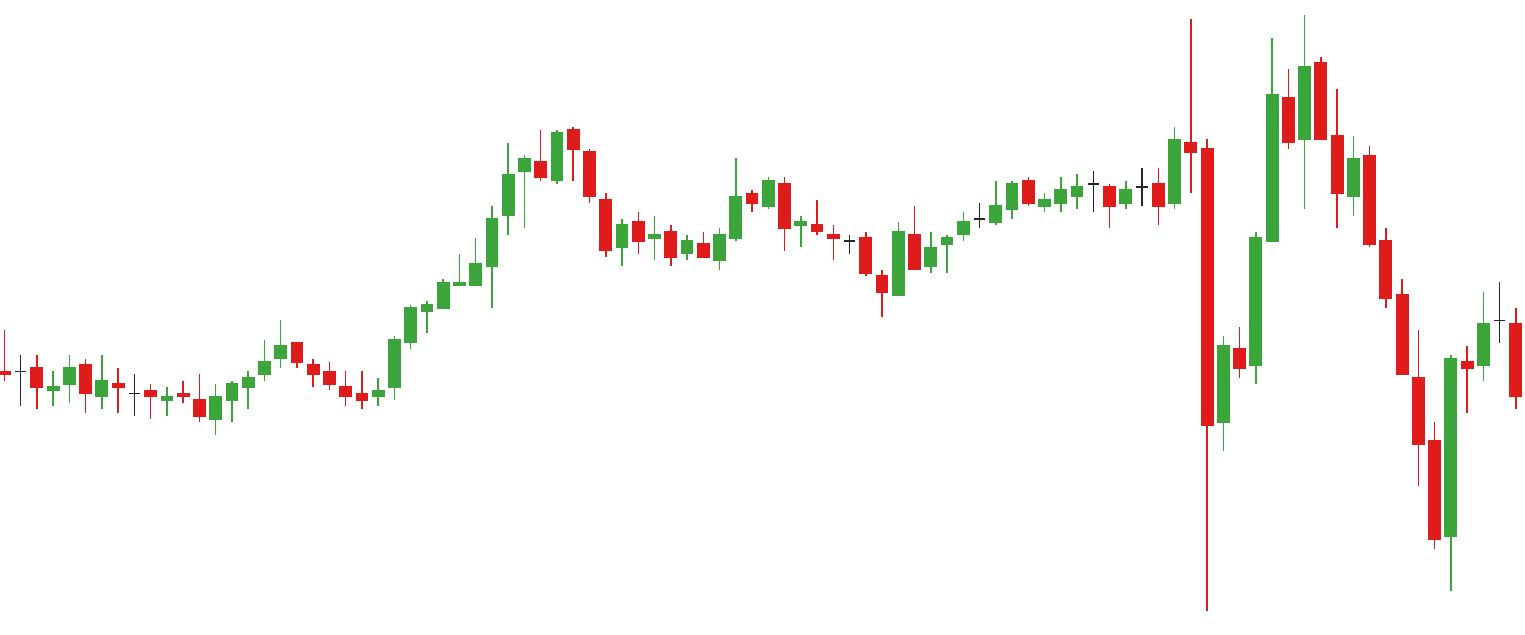buy: (1218, 236, 1461, 591)
